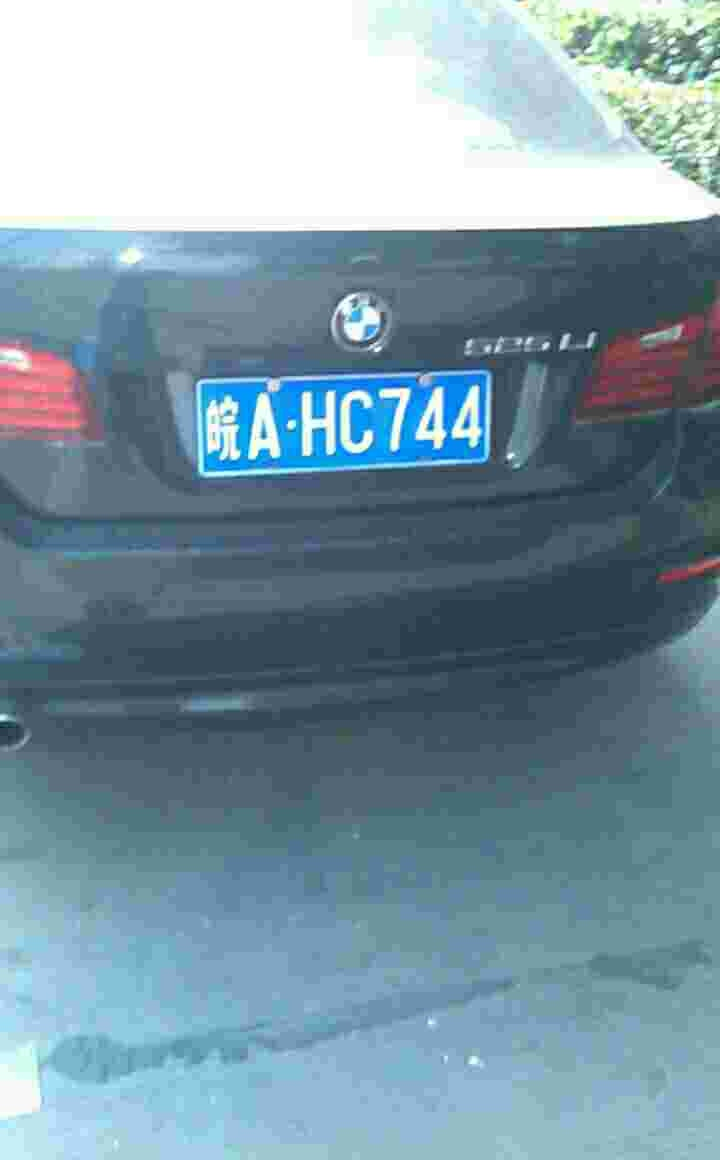license_plate: (209, 375, 506, 465)
